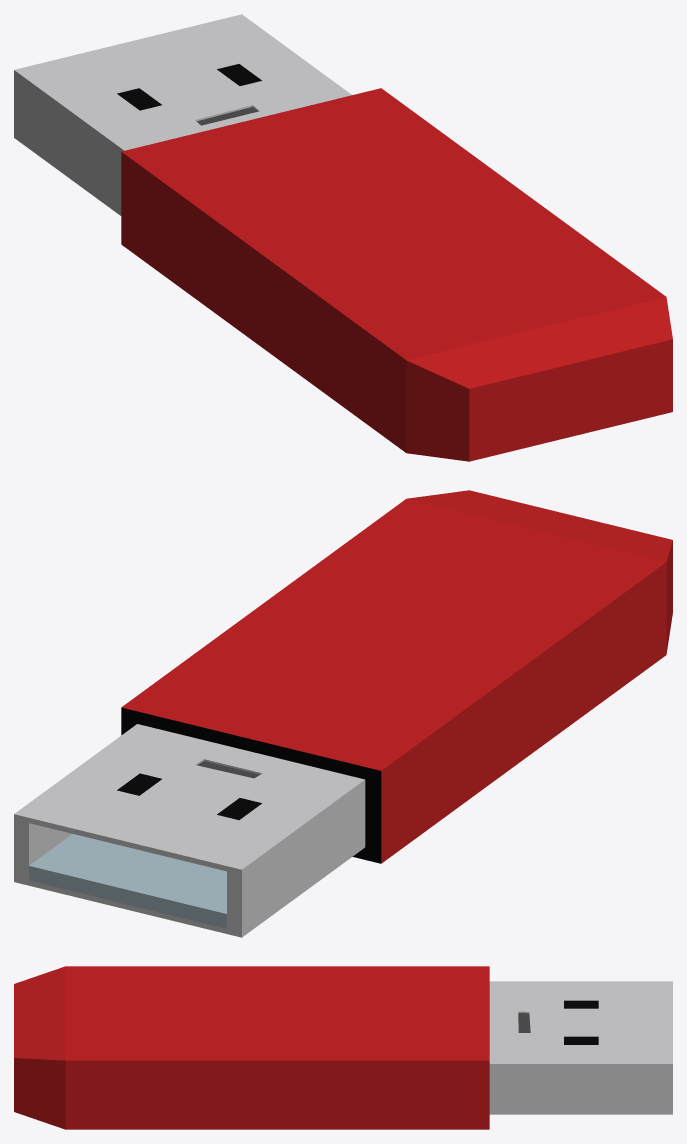
The model's file is usbSC.glb.
The picture shows the model from 3 angles, top to bottom: view 1: azimuth 30°, elevation 25°; view 2: azimuth 150°, elevation 25°; view 3: azimuth 270°, elevation 25°; orthographic projection. The views are drawn at different scales.
Parts seen in each view (by area): view 1: USB; view 2: USB; view 3: USB.
Boxes of the visible parts, x1,y1,x2,y2 form: USB: (14, 14, 672, 461); USB: (14, 490, 672, 937); USB: (14, 966, 672, 1129).
Bounding box in the file's own units: 0.0439 × 0.015 × 0.1296.
1 material, 1 textured.
